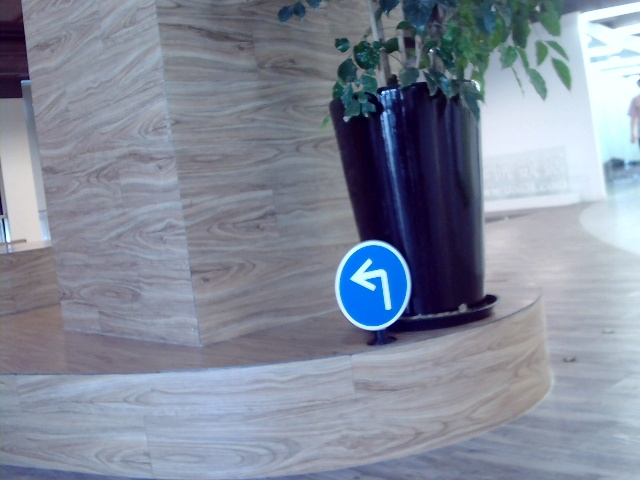turn_left: (349, 253, 394, 315)
